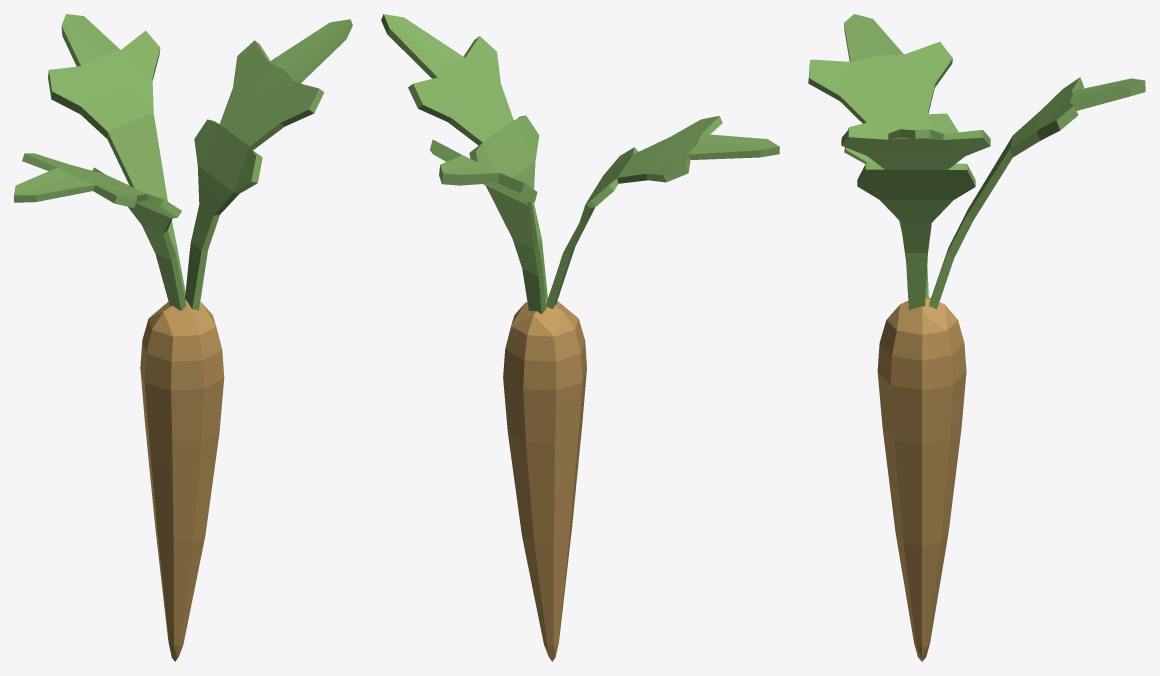
File: carrot_3.glb
3 views of the same model, side by side, from view 1: azimuth 30°, elevation 25°; view 2: azimuth 150°, elevation 25°; view 3: azimuth 270°, elevation 25° (orthographic). The views are drawn at different scales.
Parts seen in each view (by area): view 1: Carrot_3; view 2: Carrot_3; view 3: Carrot_3.
Boxes of the visible parts, x1,y1,x2,y2 form: Carrot_3: (14, 14, 352, 661); Carrot_3: (381, 14, 779, 661); Carrot_3: (808, 14, 1145, 661).
Size of the model in its own units: 0.3336 by 0.5215 by 0.2582.
